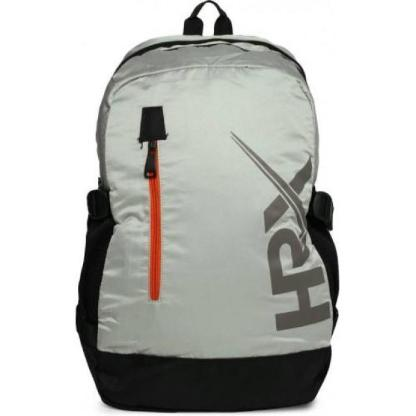bag: (68, 0, 342, 414)
